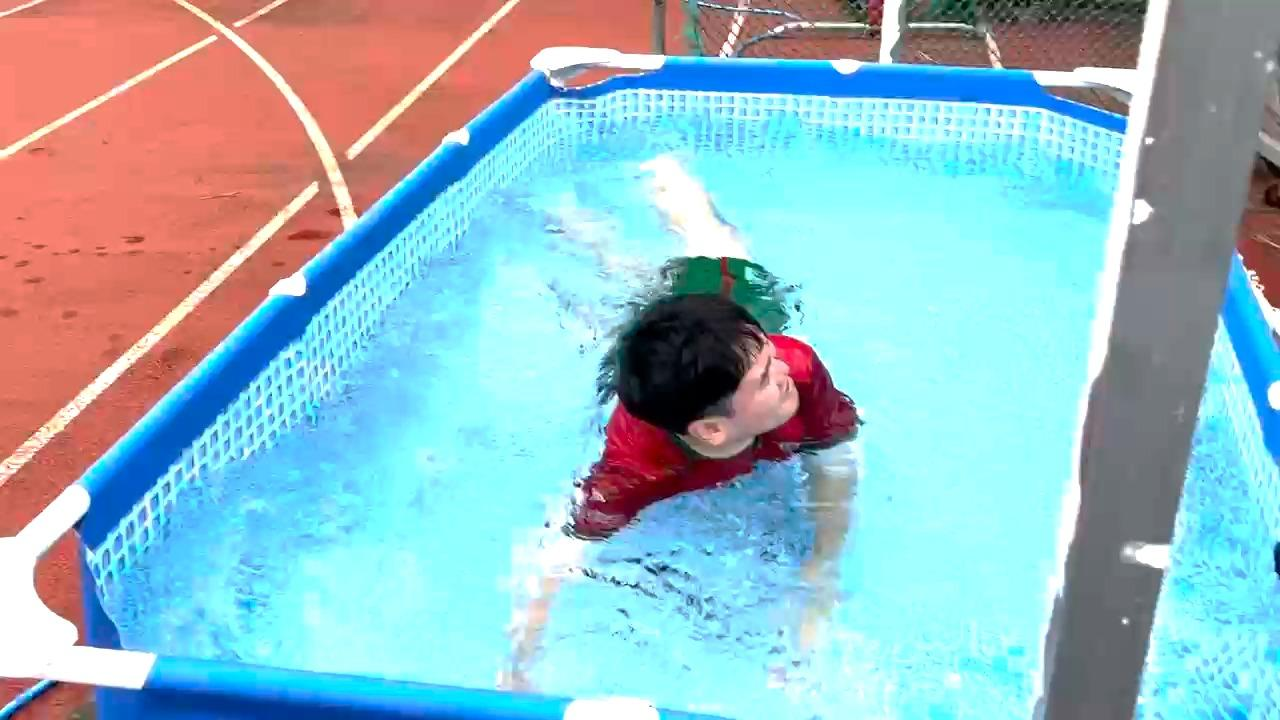Swimming: (466, 117, 897, 690)
